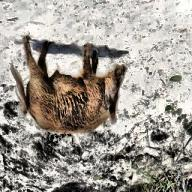boar: (10, 35, 127, 136)
